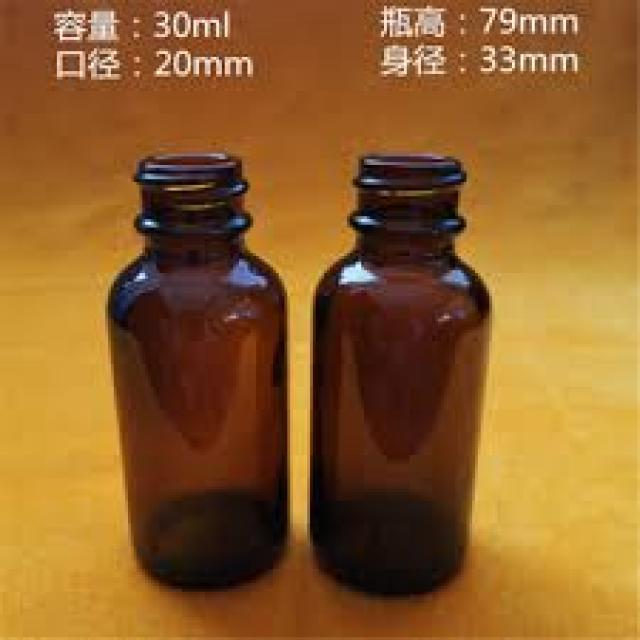glass: (103, 151, 285, 586), (313, 151, 489, 597)
